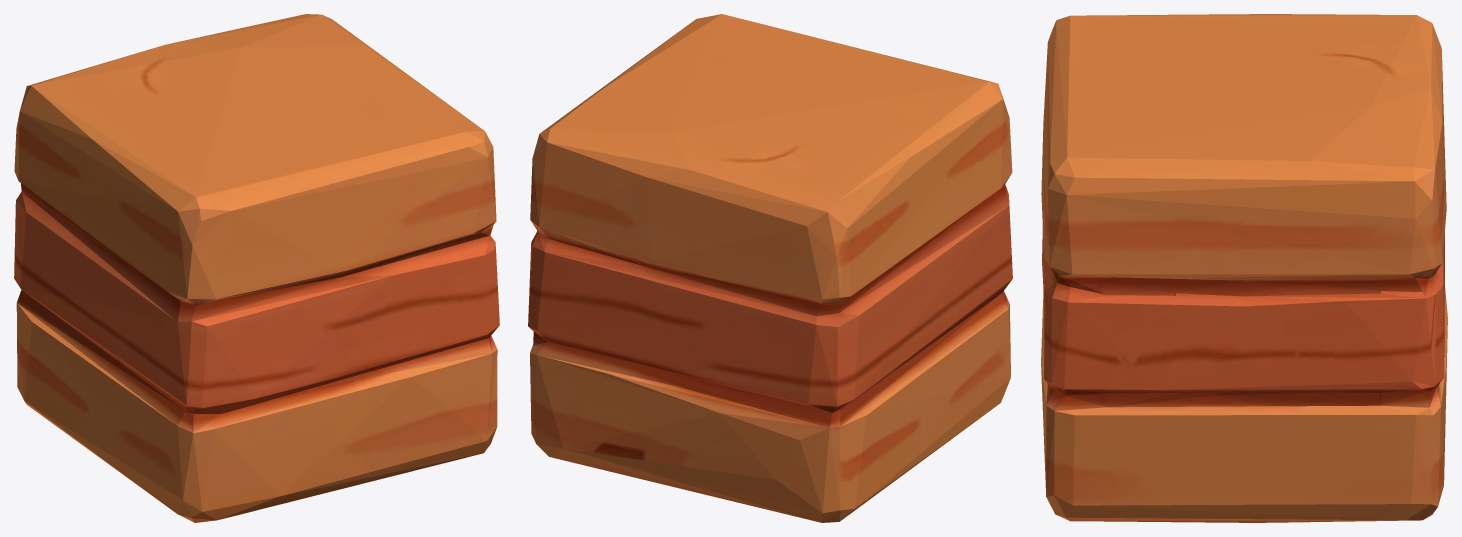
File: wall_canyon.glb
3 views of the same model, side by side, from view 1: azimuth 30°, elevation 25°; view 2: azimuth 150°, elevation 25°; view 3: azimuth 270°, elevation 25° (orthographic). The views are drawn at different scales.
Visible parts, largest first — view 1: tmp72jutd4k.ply; view 2: tmp72jutd4k.ply; view 3: tmp72jutd4k.ply.
Part boxes in pixels (x1,y1,x2,y2): tmp72jutd4k.ply: (14,14,499,522); tmp72jutd4k.ply: (528,14,1012,522); tmp72jutd4k.ply: (1041,14,1447,522).
Bounding box in the file's own units: 1.99 × 2 × 2.
1 material, 1 textured.
